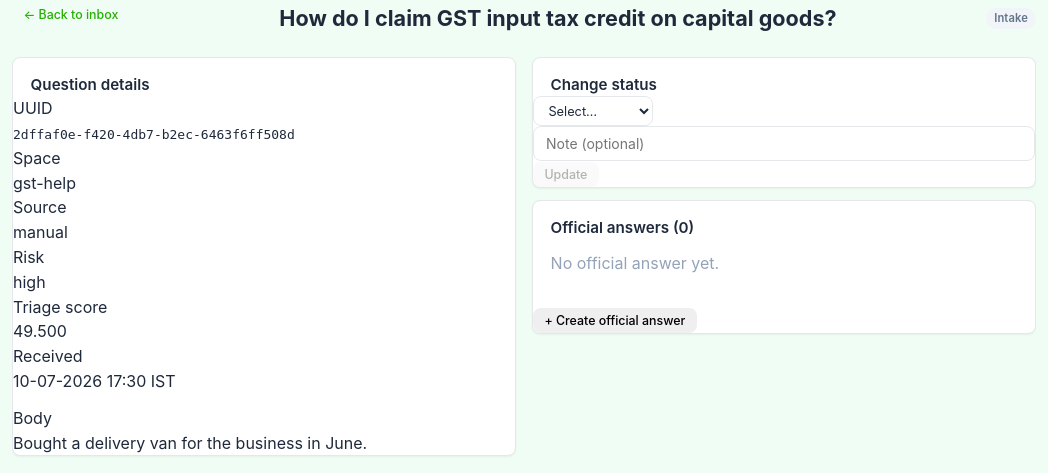
Test: QuestionWorkspacePage › sends the status change with its note, then reloads the question
The image size is (1048, 473).
Select "triaged" in the dropdown. click: (593, 111)
box: [533,96,653,126]
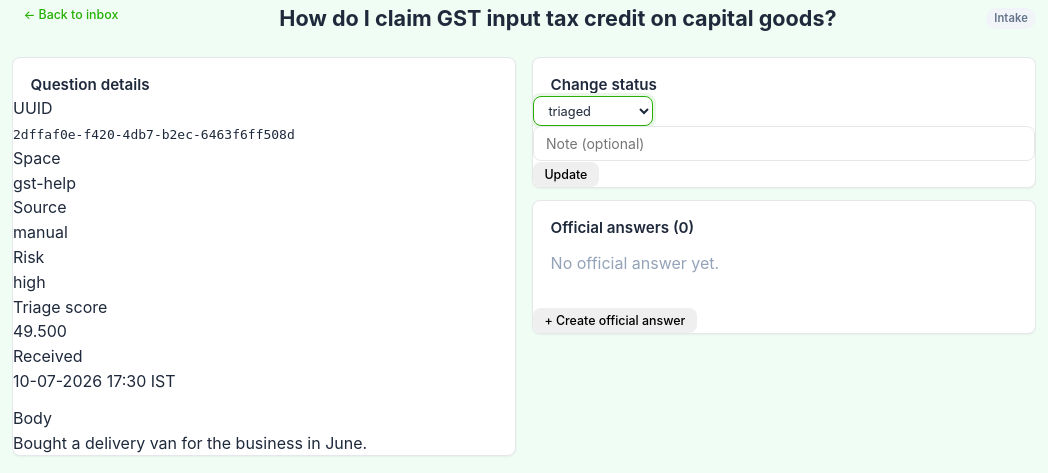
Type "Checked by the GST desk" into the field with placeholder "Note (optional)". click: (784, 144)
box: [533,126,1035,161]
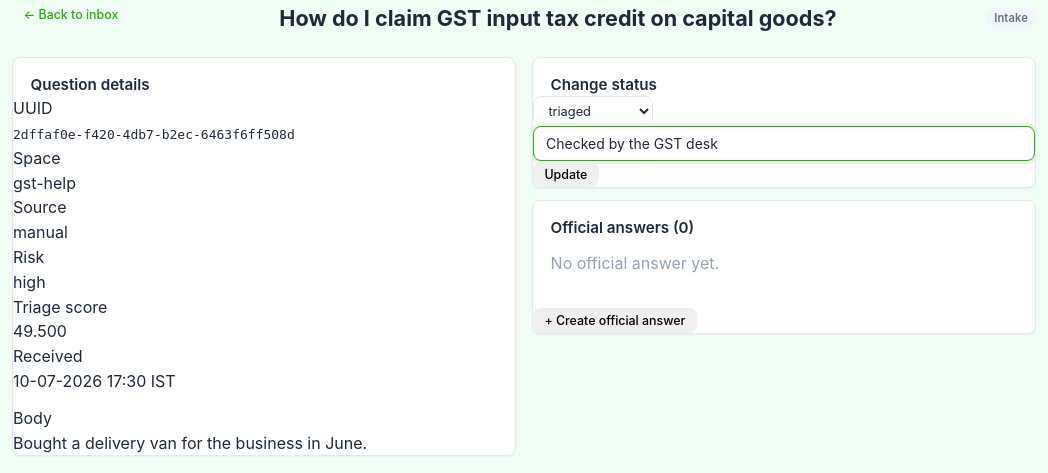
Click the button "Update". click: click(566, 175)
box: [533,162,599,187]
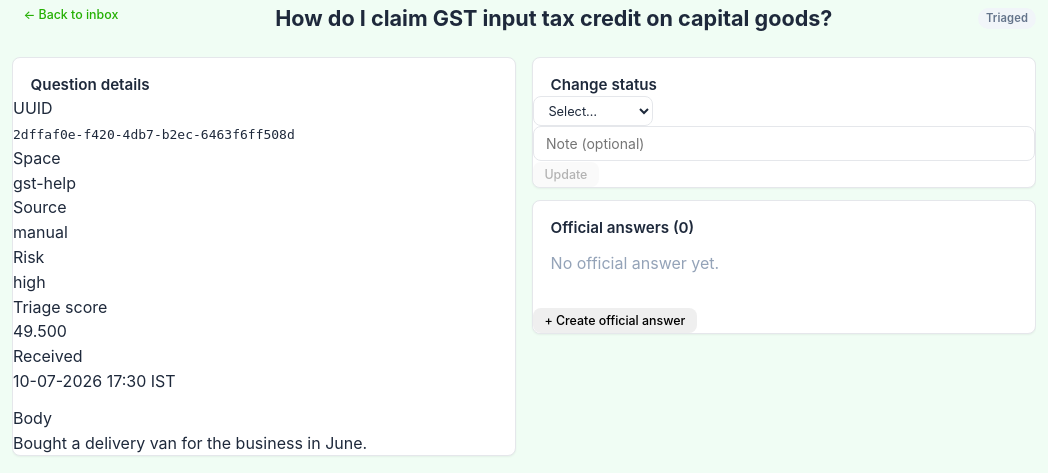
Result: the text "triaged" is shown at [978,8,1036,29]
